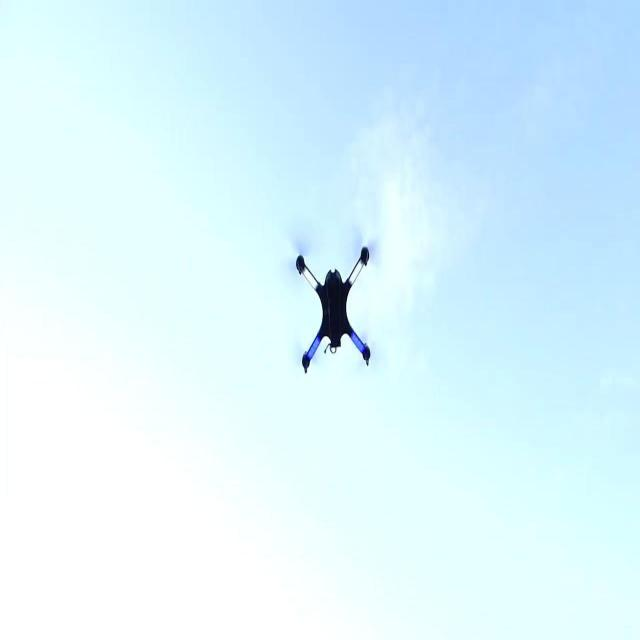UAV: (295, 244, 375, 374)
